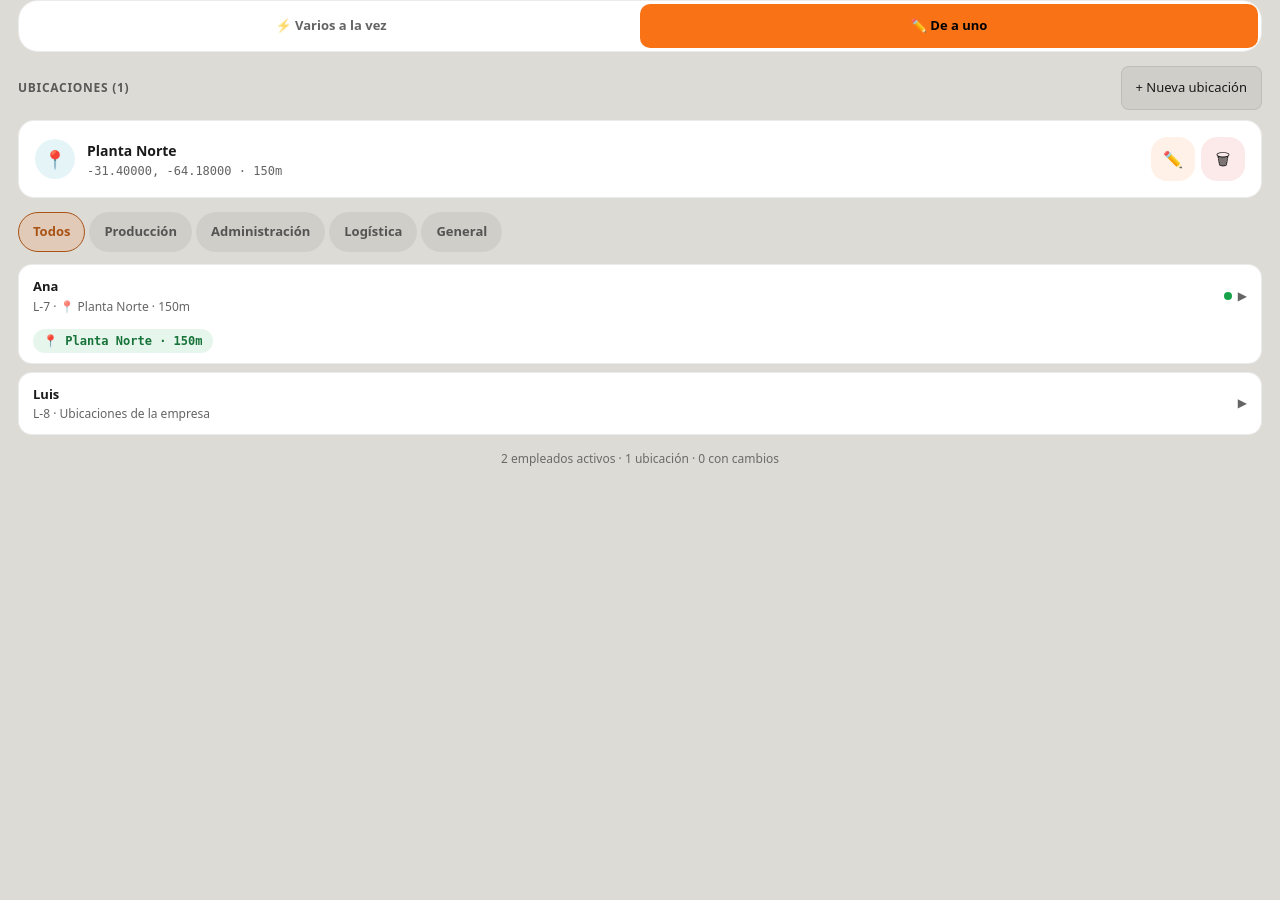
Scenario: ubicaciones — al crear, dice qué falta para poder guardar
Expected: the button named "Editar Planta Norte" is shown, [1151,137,1195,181]
Click the button "+ Nueva ubicación" at coordinates (1191, 88), box [1120,66,1262,110]
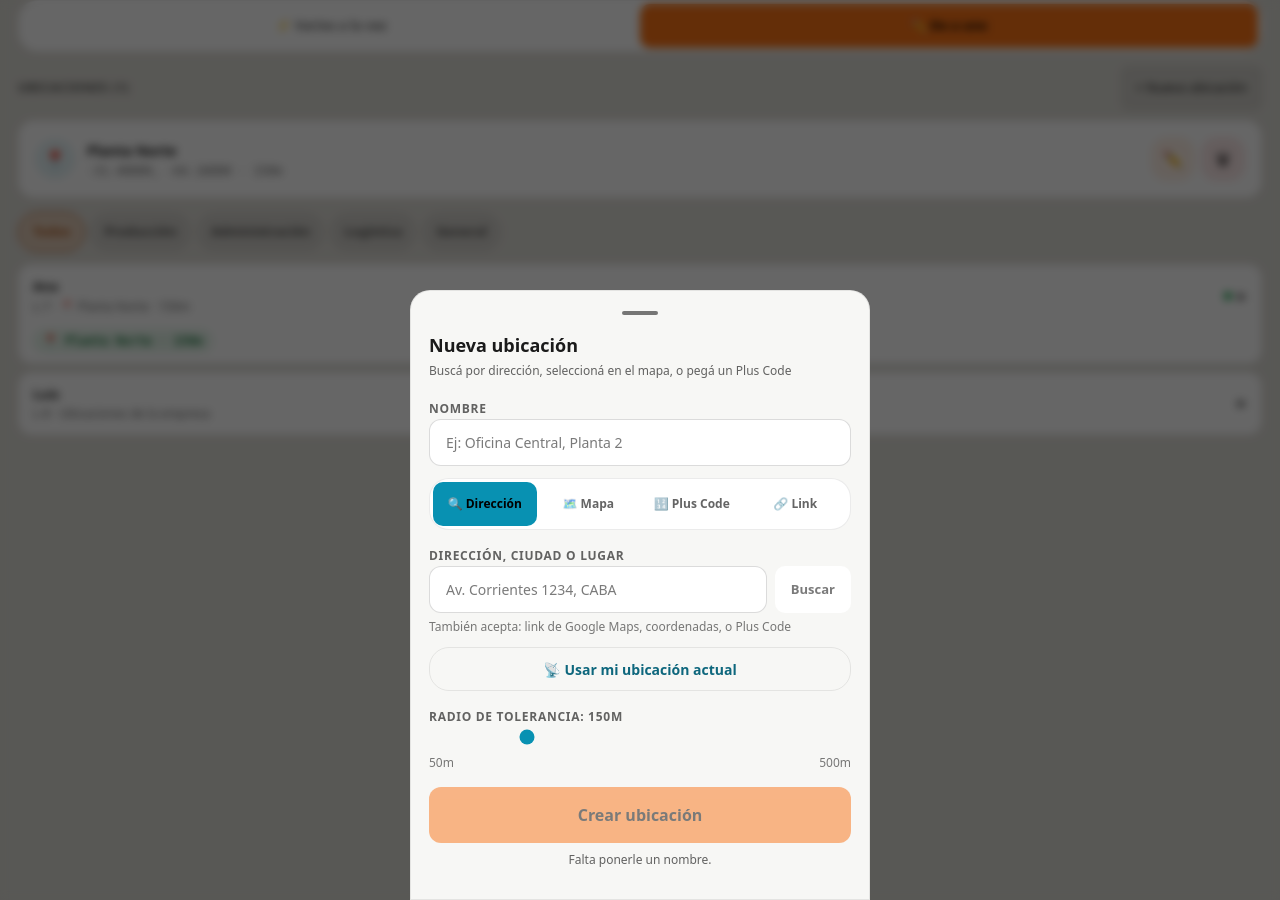
Expected: the dialog "Nueva ubicación" is shown
Expected: the text "Falta ponerle un nombre." is shown, [568,851,711,868]
Type "Depósito" into the field with placeholder "Ej: Oficina Central, Planta 2" at coordinates (640, 442), box [429,419,851,466]
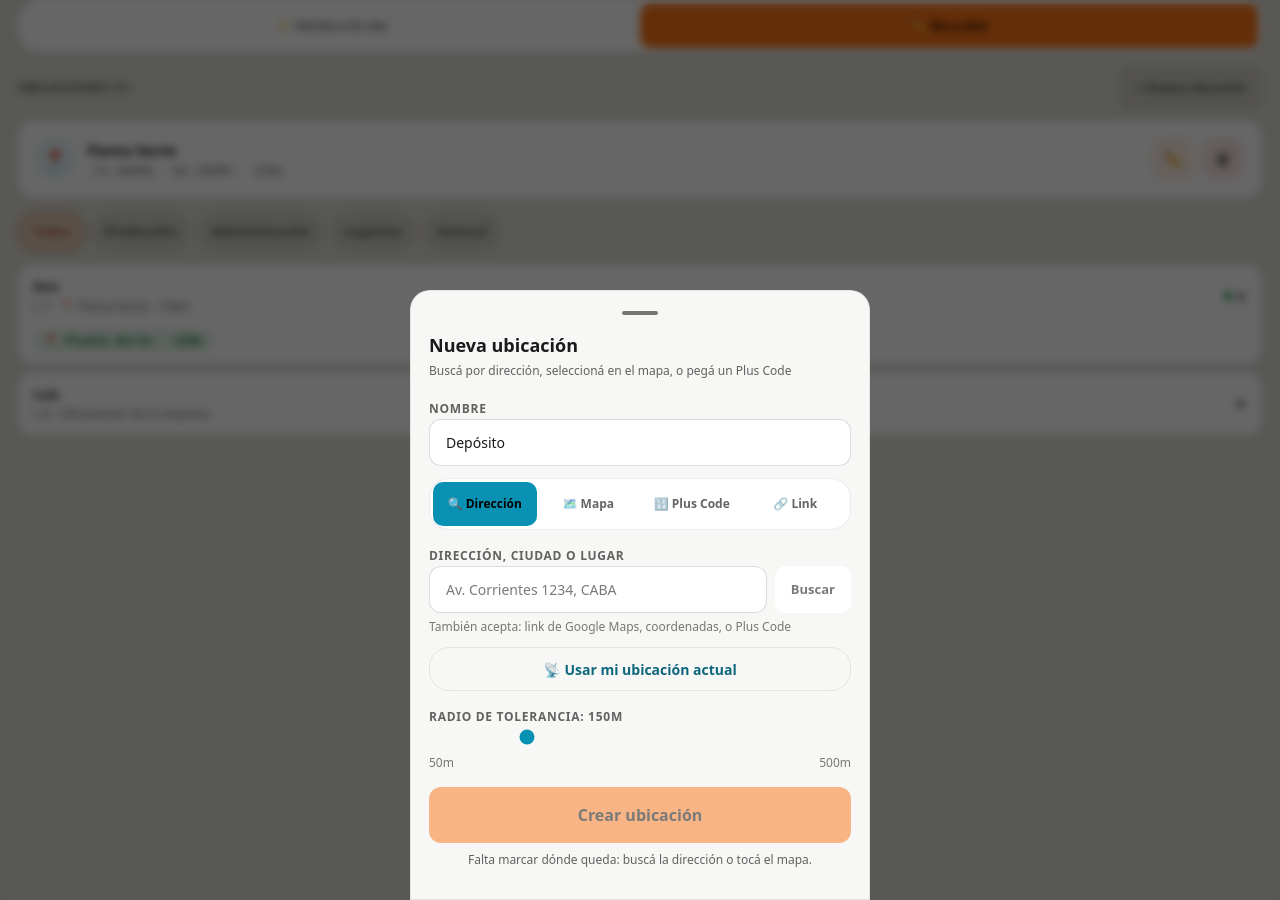
Expected: the text "Falta marcar dónde queda: buscá la dirección o tocá el mapa." is shown, [468,851,812,868]
